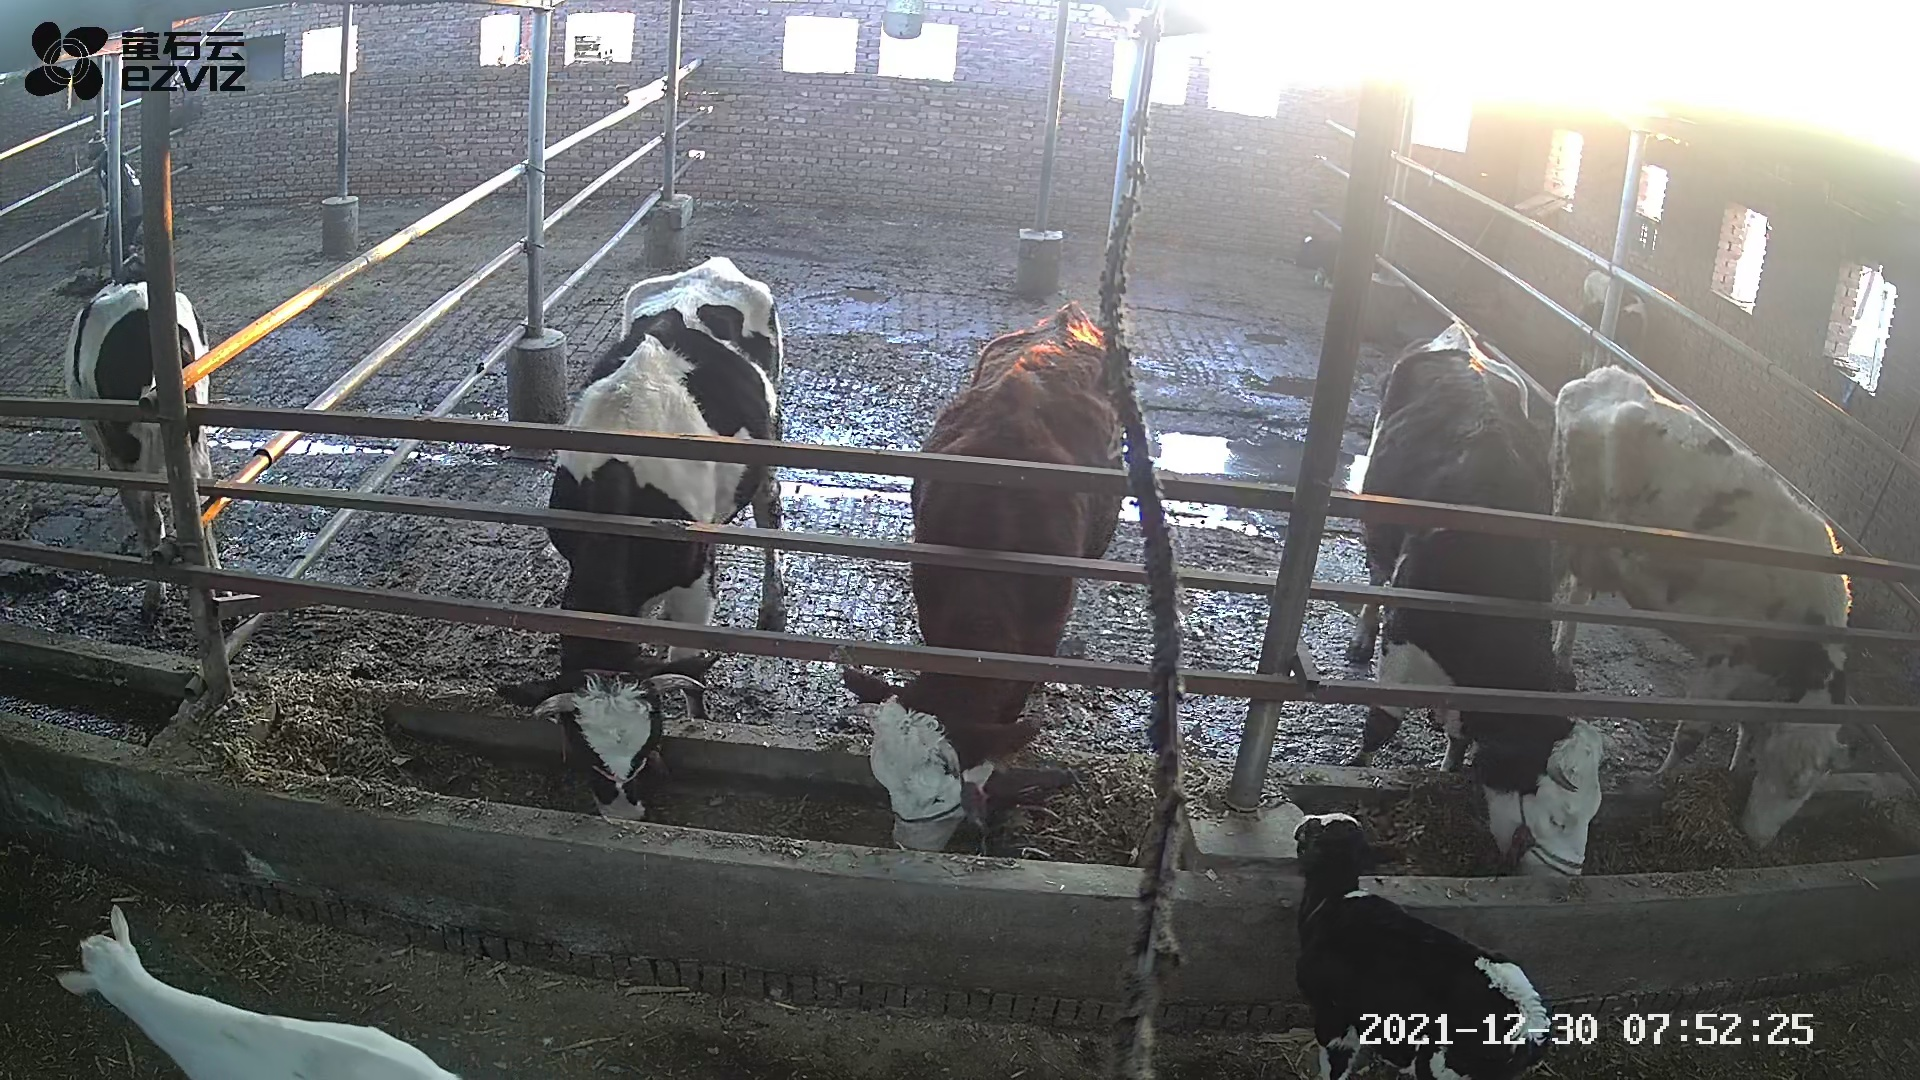cow: (493, 256, 789, 822), (1338, 313, 1633, 878), (843, 297, 1124, 855), (1547, 363, 1853, 855)
